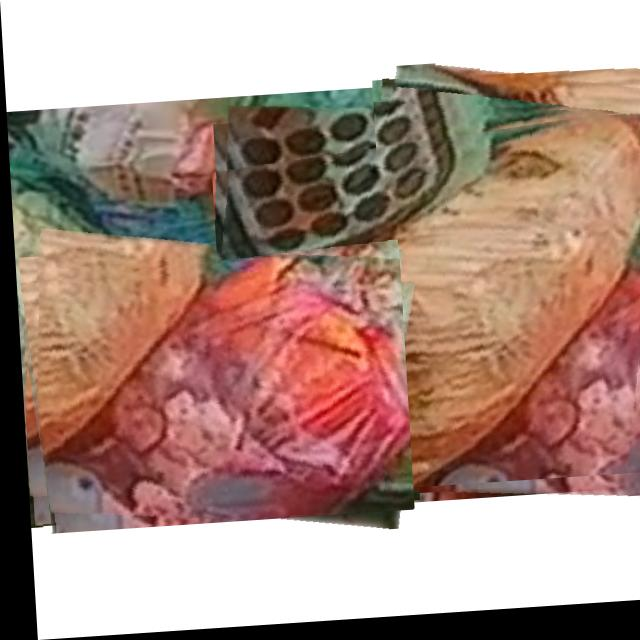general_trashbag: (375, 70, 631, 285)
other_trashbag: (216, 125, 640, 497), (33, 258, 404, 523)
